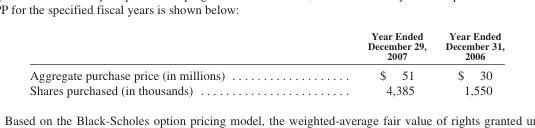table: (28, 29, 503, 96)
table column: (28, 29, 295, 96), (295, 29, 435, 96), (435, 29, 503, 96)
table column header: (28, 29, 503, 64)
table row: (28, 29, 503, 64), (28, 64, 503, 82), (28, 82, 503, 96)
